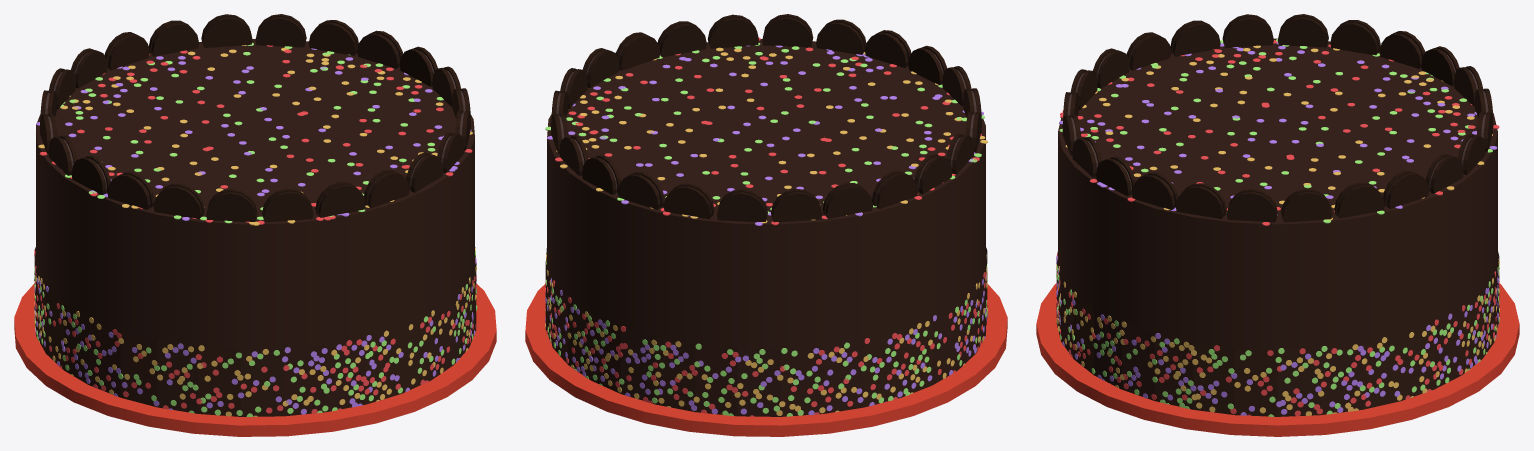
Rendered from bolinho.fbx.
3 views of the same model, side by side, from view 1: azimuth 30°, elevation 25°; view 2: azimuth 150°, elevation 25°; view 3: azimuth 270°, elevation 25° (orthographic).
Parts seen in each view (by area): view 1: base, base.002, bolacha.013, base.001, prato; view 2: base, base.002, bolacha.013, base.001, prato; view 3: base, base.002, bolacha.013, base.001, prato.
Part boxes in pixels (bbox=[...]): base: bbox=[36, 129, 474, 349]; base.002: bbox=[36, 39, 474, 224]; bolacha.013: bbox=[40, 14, 470, 222]; base.001: bbox=[34, 247, 476, 416]; prato: bbox=[14, 283, 496, 436]; base: bbox=[547, 128, 985, 349]; base.002: bbox=[547, 39, 985, 224]; bolacha.013: bbox=[551, 14, 981, 222]; base.001: bbox=[545, 247, 987, 416]; prato: bbox=[525, 284, 1007, 436]; base: bbox=[1058, 132, 1497, 349]; base.002: bbox=[1058, 38, 1497, 224]; bolacha.013: bbox=[1062, 14, 1493, 222]; base.001: bbox=[1056, 251, 1499, 416]; prato: bbox=[1036, 283, 1519, 436].
Bounding box in the file's own units: 56.04 × 29.59 × 56.04.
